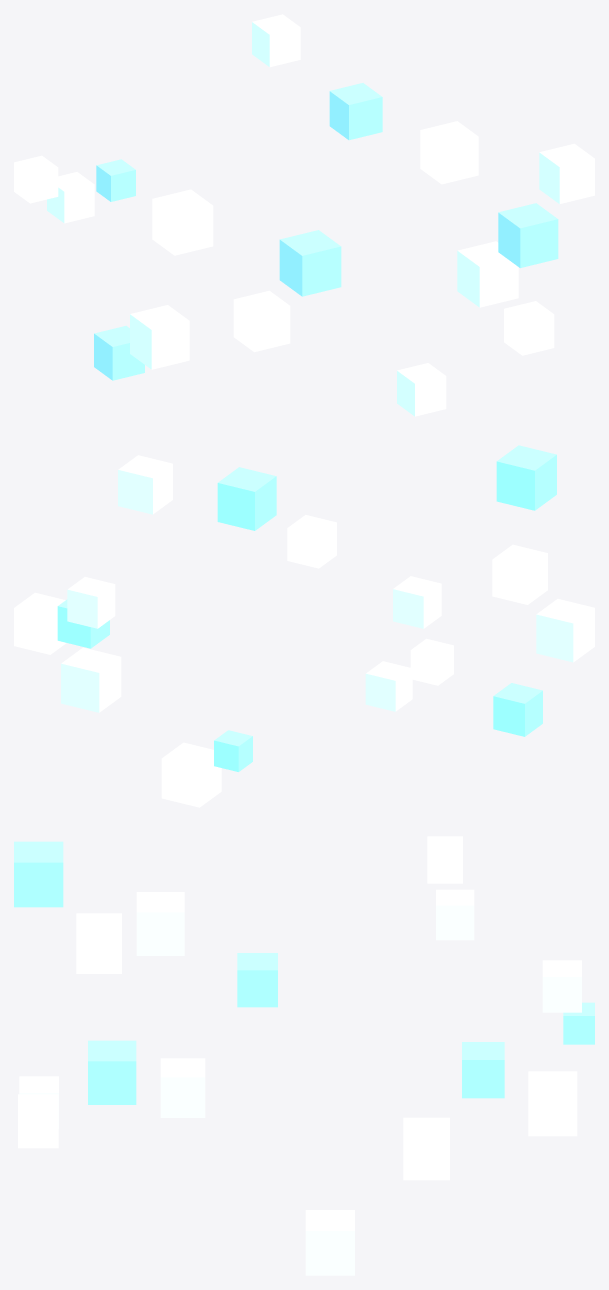
File: hit-ice.glb
The picture shows the model from 3 angles, top to bottom: view 1: azimuth 30°, elevation 25°; view 2: azimuth 150°, elevation 25°; view 3: azimuth 270°, elevation 25°; orthographic projection. The views are drawn at different scales.
Parts seen in each view (by area): view 1: cube_11, cube_04, cube_14, cube_09, cube_00, cube_01, cube_10, cube_15, cube_02, cube_13, cube_12, cube_03 (+4 smaller); view 2: cube_11, cube_00, cube_14, cube_04, cube_09, cube_10, cube_15, cube_01, cube_08, cube_13, cube_12, cube_03 (+4 smaller); view 3: cube_11, cube_00, cube_04, cube_14, cube_09, cube_01, cube_10, cube_15, cube_02, cube_08, cube_13, cube_03 (+4 smaller).
Boxes of the visible parts, bbox=[...] form: cube_11: bbox=[279, 230, 341, 296]; cube_04: bbox=[152, 189, 213, 255]; cube_14: bbox=[498, 203, 558, 267]; cube_09: bbox=[130, 305, 189, 369]; cube_00: bbox=[457, 241, 518, 307]; cube_01: bbox=[420, 121, 478, 184]; cube_10: bbox=[233, 290, 290, 352]; cube_15: bbox=[539, 143, 594, 204]; cube_02: bbox=[329, 83, 382, 140]; cube_13: bbox=[504, 301, 554, 355]; cube_12: bbox=[397, 363, 446, 416]; cube_03: bbox=[252, 14, 300, 67]; cube_11: bbox=[496, 445, 556, 510]; cube_00: bbox=[61, 647, 121, 712]; cube_14: bbox=[217, 467, 276, 530]; cube_04: bbox=[161, 742, 221, 807]; cube_09: bbox=[536, 599, 594, 662]; cube_10: bbox=[492, 544, 547, 604]; cube_15: bbox=[118, 455, 172, 514]; cube_01: bbox=[14, 592, 66, 654]; cube_08: bbox=[493, 683, 542, 736]; cube_13: bbox=[287, 515, 336, 568]; cube_12: bbox=[393, 576, 441, 628]; cube_03: bbox=[67, 577, 115, 628]; cube_11: bbox=[14, 841, 63, 907]; cube_00: bbox=[305, 1210, 354, 1275]; cube_04: bbox=[528, 1071, 577, 1136]; cube_14: bbox=[88, 1040, 136, 1104]; cube_09: bbox=[136, 892, 184, 955]; cube_01: bbox=[403, 1117, 449, 1180]; cube_10: bbox=[76, 913, 121, 973]; cube_15: bbox=[160, 1058, 205, 1117]; cube_02: bbox=[462, 1042, 504, 1098]; cube_08: bbox=[237, 953, 277, 1007]; cube_13: bbox=[18, 1094, 58, 1148]; cube_03: bbox=[542, 960, 581, 1012].
Size of the model in its own units: 3.38 by 1.6 by 3.41.
